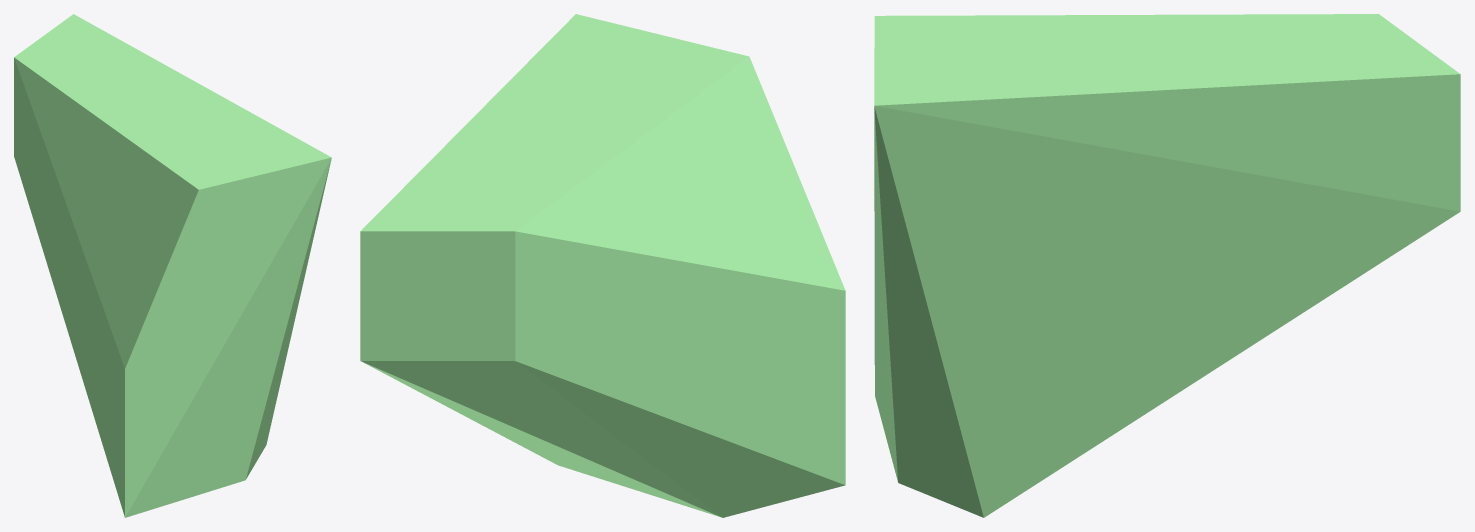
The model's file is dvkr_robot_Lp11_respondable_PSM2_coll_1.dae.
3 views of the same model, side by side, from view 1: azimuth 30°, elevation 25°; view 2: azimuth 150°, elevation 25°; view 3: azimuth 270°, elevation 25° (orthographic). The views are drawn at different scales.
Parts seen in each view (by area): view 1: Node_0000023514CD8050; view 2: Node_0000023514CD8050; view 3: Node_0000023514CD8050.
Part boxes in pixels (x1=…): Node_0000023514CD8050: x1=14, y1=14, x2=331, y2=517; Node_0000023514CD8050: x1=360, y1=14, x2=845, y2=517; Node_0000023514CD8050: x1=874, y1=14, x2=1460, y2=517.
Bounding box in the file's own units: 0.0174 × 0.025 × 0.0309.
